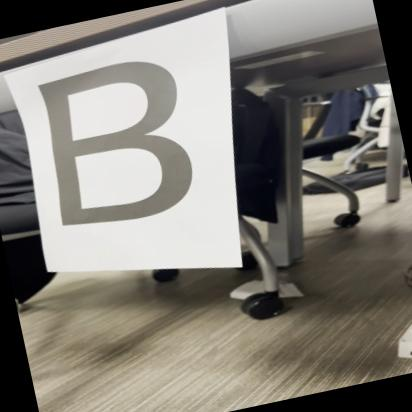seat: (27, 43, 230, 251)
